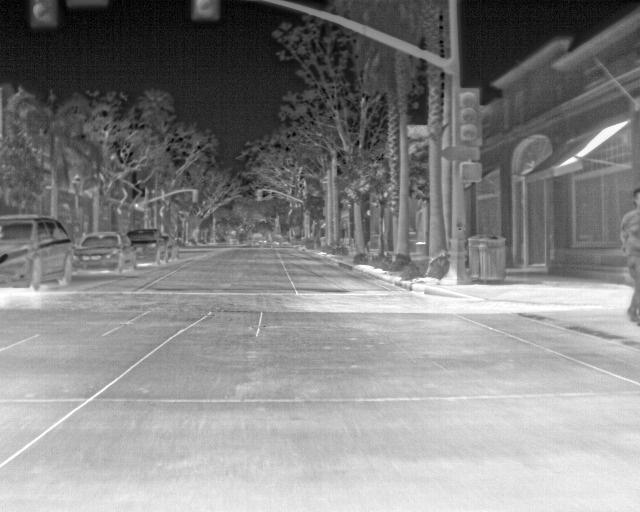bicycle: (1, 211, 73, 294), (74, 232, 136, 276), (127, 228, 171, 264)
empty: (619, 187, 639, 328)
